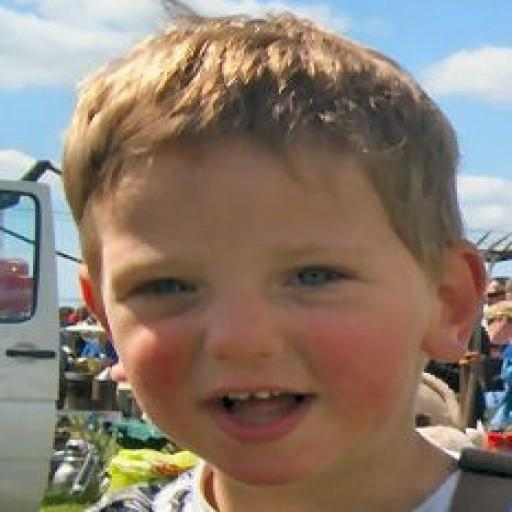Autism: (14, 11, 494, 512)
